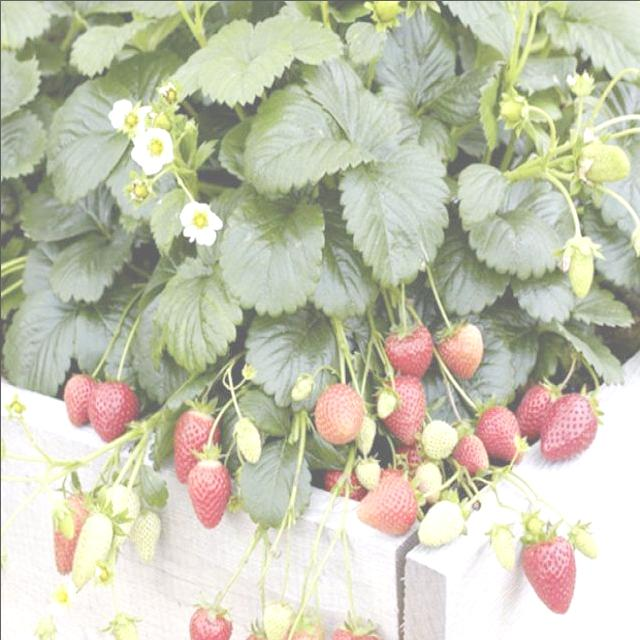ripe: (534, 384, 598, 464), (354, 464, 417, 544), (522, 531, 580, 610), (180, 454, 237, 528), (381, 372, 430, 450), (433, 314, 486, 382), (83, 372, 137, 438), (308, 379, 364, 441), (475, 401, 525, 470), (52, 484, 89, 574), (170, 406, 216, 478), (514, 373, 554, 440), (380, 326, 433, 372), (183, 592, 229, 640), (60, 370, 90, 422), (328, 614, 387, 640), (291, 610, 325, 640)
unripe: (65, 508, 113, 588), (555, 228, 603, 304), (572, 136, 636, 184), (413, 498, 466, 551), (484, 519, 523, 586), (122, 508, 164, 566), (226, 414, 264, 466), (422, 414, 457, 464), (562, 518, 600, 562), (257, 594, 292, 640), (102, 479, 134, 529), (112, 610, 144, 640)
